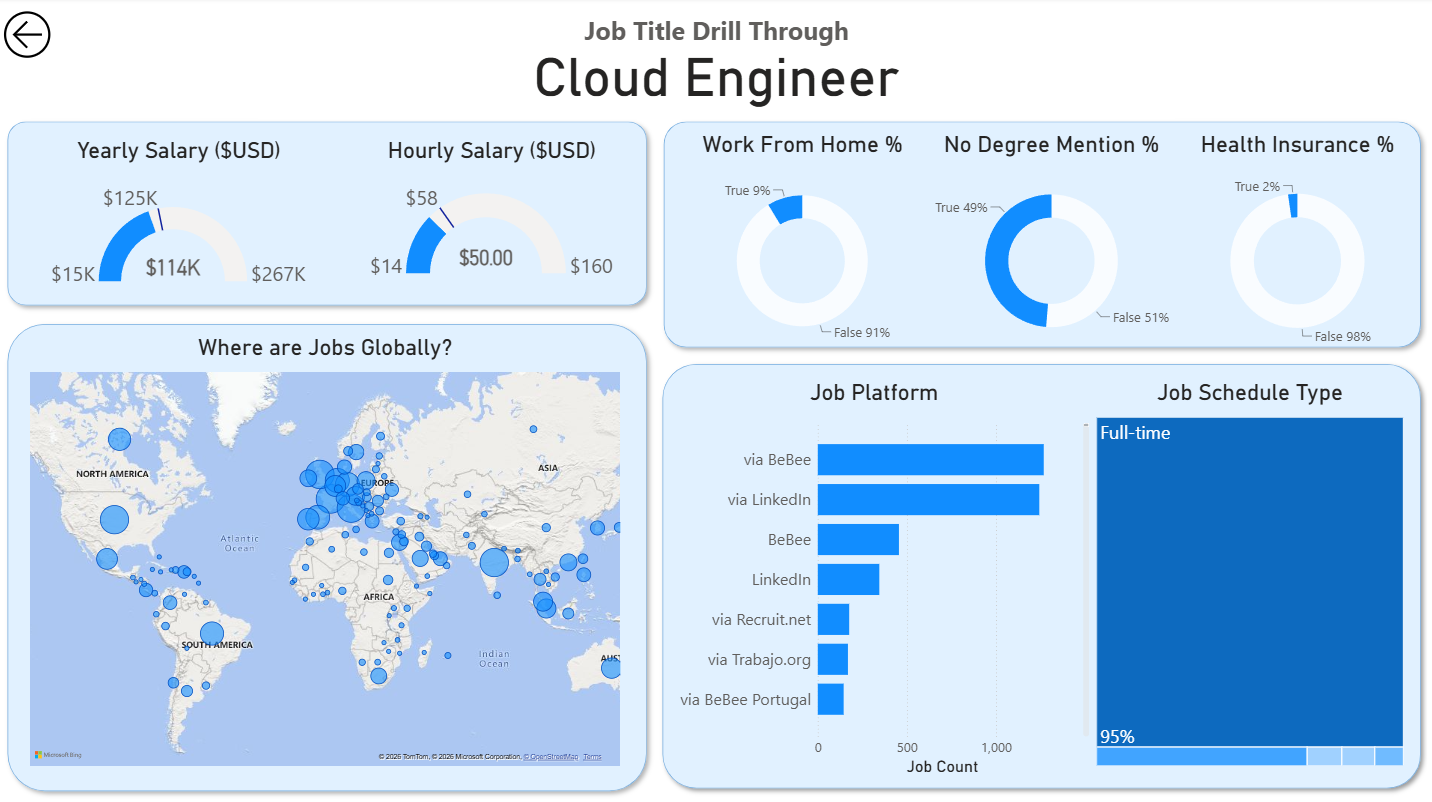

Layout of this report page (visuals, bound fields, positions):
{"tool":"powerbi","page":{"name":"Job Title Drill Through","canvas":[1920,1080],"ordinal":1},"visuals":[{"type":"group","id":"g1","title":"Background","box":[1,156,1910,915.7],"z":0},{"type":"shape","box":[1,156.1,875.9,267.8],"z":0,"group":"g1"},{"type":"cardVisual","fields":{"Data":["Min(job_postings_flat.job_title_short)1"]},"box":[342,0,1236,168.3],"z":1000},{"type":"shape","box":[876.9,156,1033.3,323.9],"z":1000,"group":"g1"},{"type":"actionButton","box":[0,0,129.4,100.2],"z":2000},{"type":"shape","box":[1,425.7,875.9,646],"z":2000,"group":"g1"},{"type":"gauge","title":"Yearly Salary ($USD)","fields":{"MaxValue":["Max(job_postings_flat.salary_year_avg)1"],"MinValue":["Min(job_postings_flat.salary_year_avg)3"],"TargetValue":["Avg(job_postings_flat.salary_year_avg)2"],"Y":["Median(job_postings_flat.salary_year_avg)"]},"box":[38,186.4,405.4,202.7],"z":3000},{"type":"shape","box":[876,480,1035,589],"z":3000,"group":"g1"},{"type":"gauge","title":"Hourly Salary ($USD)","fields":{"MaxValue":["Max(job_postings_flat.salary_hour_avg)2"],"MinValue":["Min(job_postings_flat.salary_hour_avg)1"],"TargetValue":["Avg(job_postings_flat.salary_hour_avg)3"],"Y":["Median(job_postings_flat.salary_hour_avg)"]},"box":[468.7,186.4,380,192],"z":4000},{"type":"donutChart","title":"Health Insurance %","fields":{"Category":["job_postings_flat.job_health_insurance"],"Y":["CountNonNull(job_postings_flat.job_work_from_home)"]},"box":[1559.9,168.3,352.9,311.3],"z":5000},{"type":"donutChart","title":"No Degree Mention %","fields":{"Category":["job_postings_flat.job_no_degree_mention"],"Y":["CountNonNull(job_postings_flat.job_work_from_home)"]},"box":[1237.8,168.3,340.2,311.3],"z":6000},{"type":"donutChart","title":"Work From Home %","fields":{"Category":["job_postings_flat.job_work_from_home"],"Y":["CountNonNull(job_postings_flat.job_work_from_home)"]},"box":[912.1,168.3,325.7,311.3],"z":7000},{"type":"map","title":"Where are Jobs Globally?","fields":{"Category":["job_postings_flat.job_country"],"Size":["CountNonNull(job_postings_flat.job_title_short)"]},"box":[38,450.6,798.1,580.9],"z":8000},{"type":"treemap","title":"Job Schedule Type","fields":{"Group":["job_postings_flat.job_schedule_type"],"Values":["CountNonNull(job_postings_flat.job_schedule_type)"]},"box":[1462.2,510.3,419.8,521.2],"z":9000},{"type":"barChart","title":"Job Platform","fields":{"Category":["job_postings_flat.job_via"],"Y":["CountNonNull(job_postings_flat.job_via)"]},"box":[877.7,510.3,584.5,533.8],"z":10000}]}

Visuals, with their boxes in screenshot pixels (x1, y1, x2, y2), scaled from the page's 1920x1080 canvas onto the 1432x802 screenshot:
"Background" group: select_region(1, 116, 1425, 796)
shape: select_region(1, 116, 654, 315)
cardVisual - Min(job_postings_flat.job_title_short)1: select_region(255, 0, 1177, 125)
shape: select_region(654, 116, 1425, 356)
actionButton: select_region(0, 0, 97, 74)
shape: select_region(1, 316, 654, 796)
"Yearly Salary ($USD)" gauge: select_region(28, 138, 331, 289)
shape: select_region(653, 356, 1425, 794)
"Hourly Salary ($USD)" gauge: select_region(350, 138, 633, 281)
"Health Insurance %" donutChart: select_region(1163, 125, 1427, 356)
"No Degree Mention %" donutChart: select_region(923, 125, 1177, 356)
"Work From Home %" donutChart: select_region(680, 125, 923, 356)
"Where are Jobs Globally?" map: select_region(28, 335, 624, 766)
"Job Schedule Type" treemap: select_region(1091, 379, 1404, 766)
"Job Platform" barChart: select_region(655, 379, 1091, 775)
